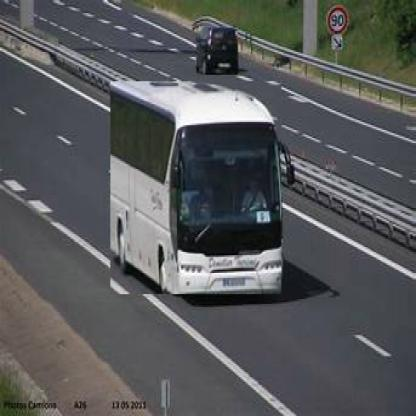bus: (112, 82, 284, 297)
car: (197, 29, 240, 78)
